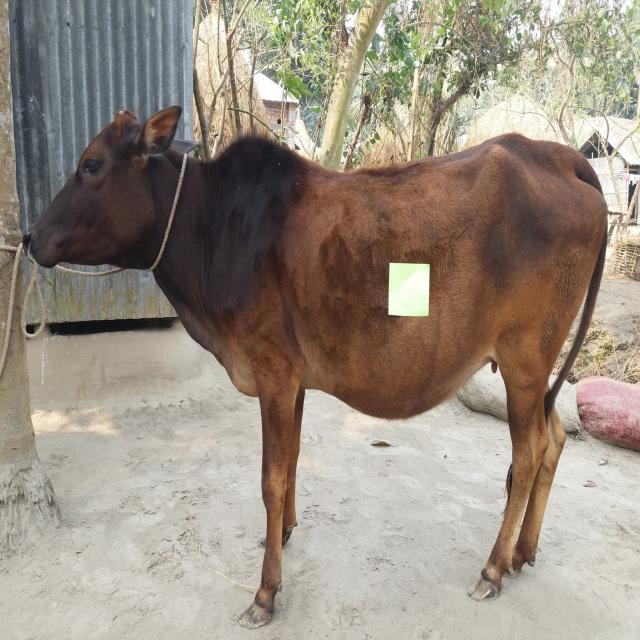badan_sapi: (241, 130, 603, 423)
sapi: (12, 92, 617, 638)
